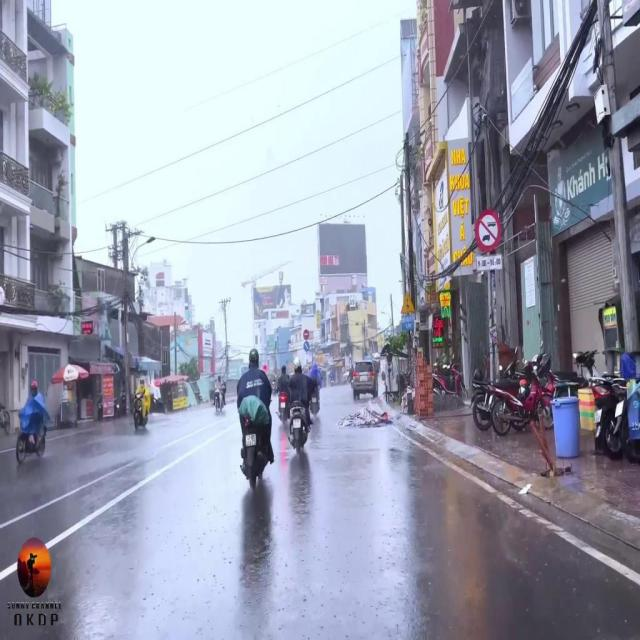cam_o_to_tai_va_xe_khach: (474, 208, 502, 256)
cam_xe_di_nguoc_chieu: (302, 327, 310, 342)
huong_phai_di_vuot_chuong_ngai_vat_phai: (303, 340, 310, 353)
khac: (476, 254, 502, 271), (401, 292, 417, 315), (401, 315, 415, 331)
